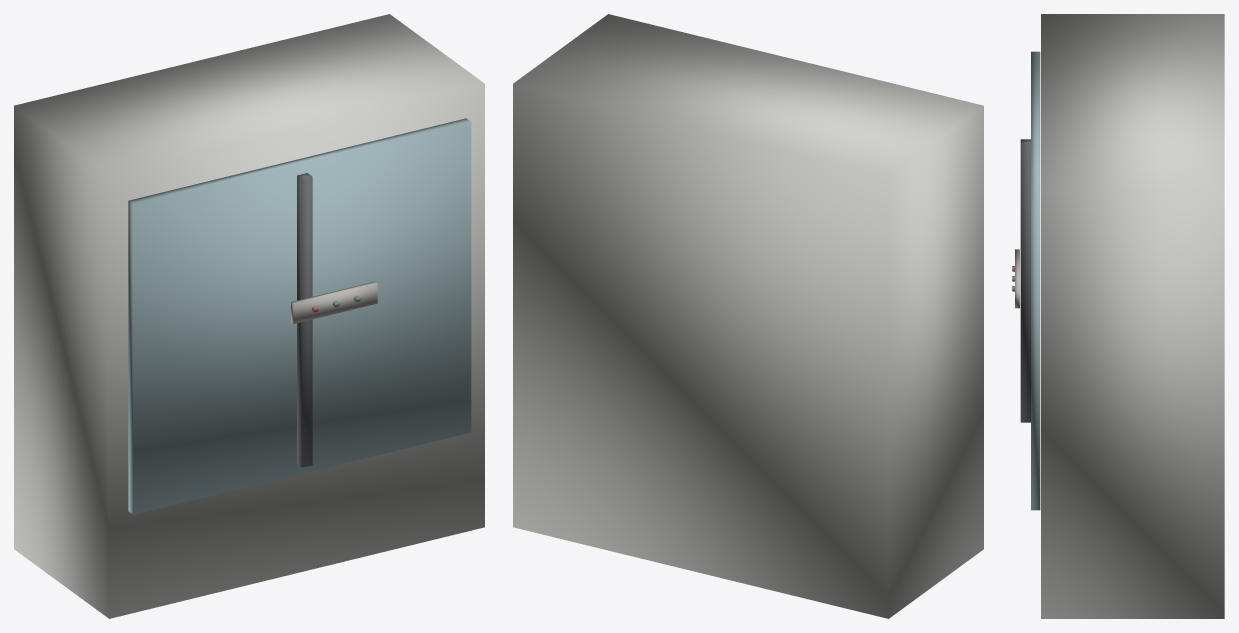
The model's file is freezer_chest__wide.glb.
3 views of the same model, side by side, from view 1: azimuth 30°, elevation 25°; view 2: azimuth 150°, elevation 25°; view 3: azimuth 270°, elevation 25° (orthographic). The views are drawn at different scales.
Visible parts, largest first — view 1: world; view 2: world; view 3: world.
Part boxes in pixels (x1,y1,x2,y2): world: [14, 14, 484, 618]; world: [513, 14, 983, 618]; world: [1012, 14, 1224, 618].
Size of the model in its own units: 1.55 by 1.75 by 0.786.
